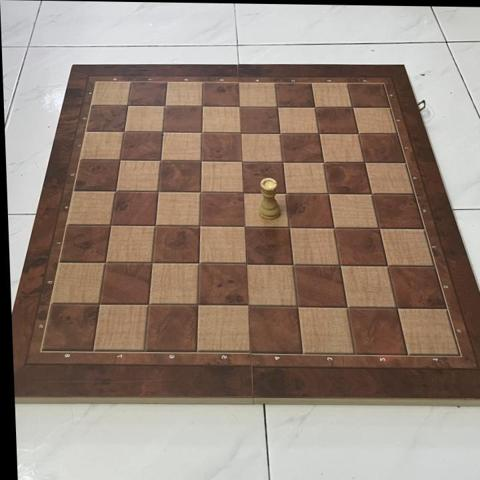xcorner: (155, 97, 173, 115), (114, 123, 132, 141), (231, 124, 249, 142), (270, 124, 288, 142), (349, 125, 367, 143), (191, 152, 209, 170), (273, 153, 291, 171), (148, 183, 166, 201), (233, 184, 251, 202), (362, 185, 380, 203), (142, 255, 160, 273), (236, 256, 254, 274), (89, 296, 107, 314), (337, 299, 355, 317), (193, 97, 210, 115), (230, 98, 248, 115), (306, 98, 323, 116), (343, 99, 361, 116), (153, 124, 171, 141), (192, 124, 210, 141), (110, 152, 128, 169), (151, 152, 168, 170), (232, 153, 250, 170), (314, 154, 332, 171), (355, 154, 373, 171), (276, 185, 294, 202), (319, 185, 337, 202), (101, 217, 118, 235), (145, 218, 163, 235), (190, 218, 207, 236), (325, 219, 342, 237), (95, 255, 113, 272), (189, 256, 207, 273), (283, 257, 301, 274), (331, 257, 348, 275), (188, 298, 206, 315), (238, 298, 255, 316), (287, 299, 305, 316), (118, 97, 135, 114), (268, 98, 285, 115), (310, 125, 327, 142), (106, 183, 123, 200), (191, 184, 208, 201), (235, 219, 252, 236), (280, 219, 297, 236), (370, 220, 387, 237), (378, 258, 395, 275), (139, 297, 156, 314), (387, 300, 404, 317)
